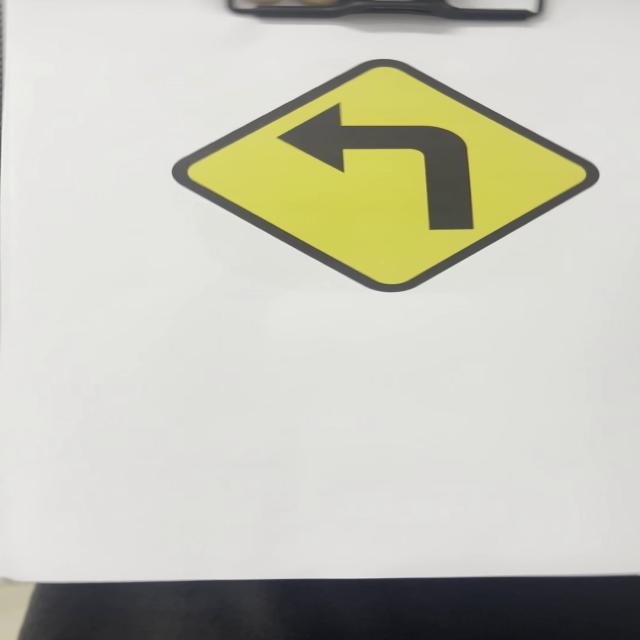left: (175, 52, 597, 293)
